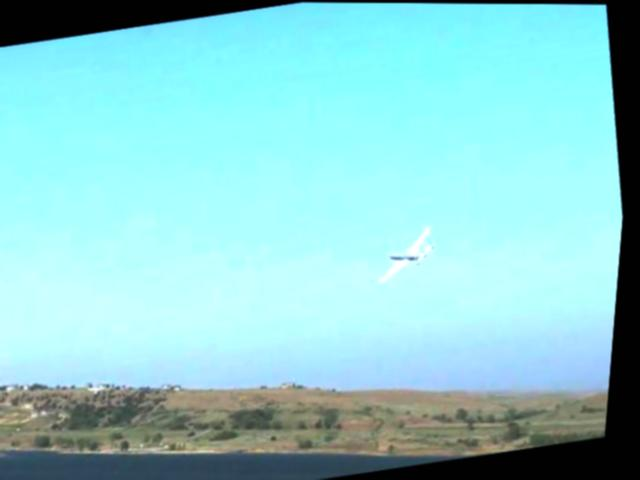iha: (373, 219, 445, 284)
